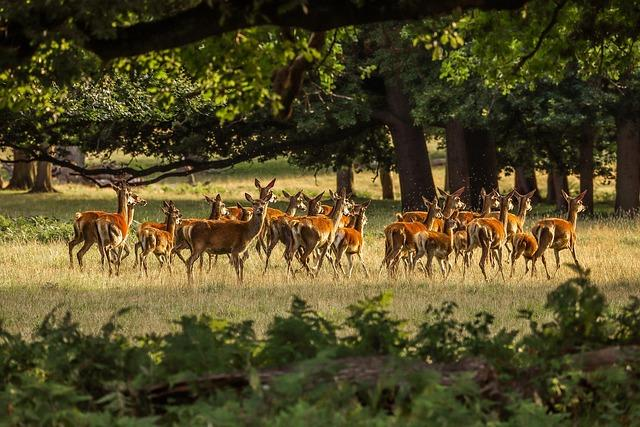Non_Gorille: (2, 0, 640, 427)
